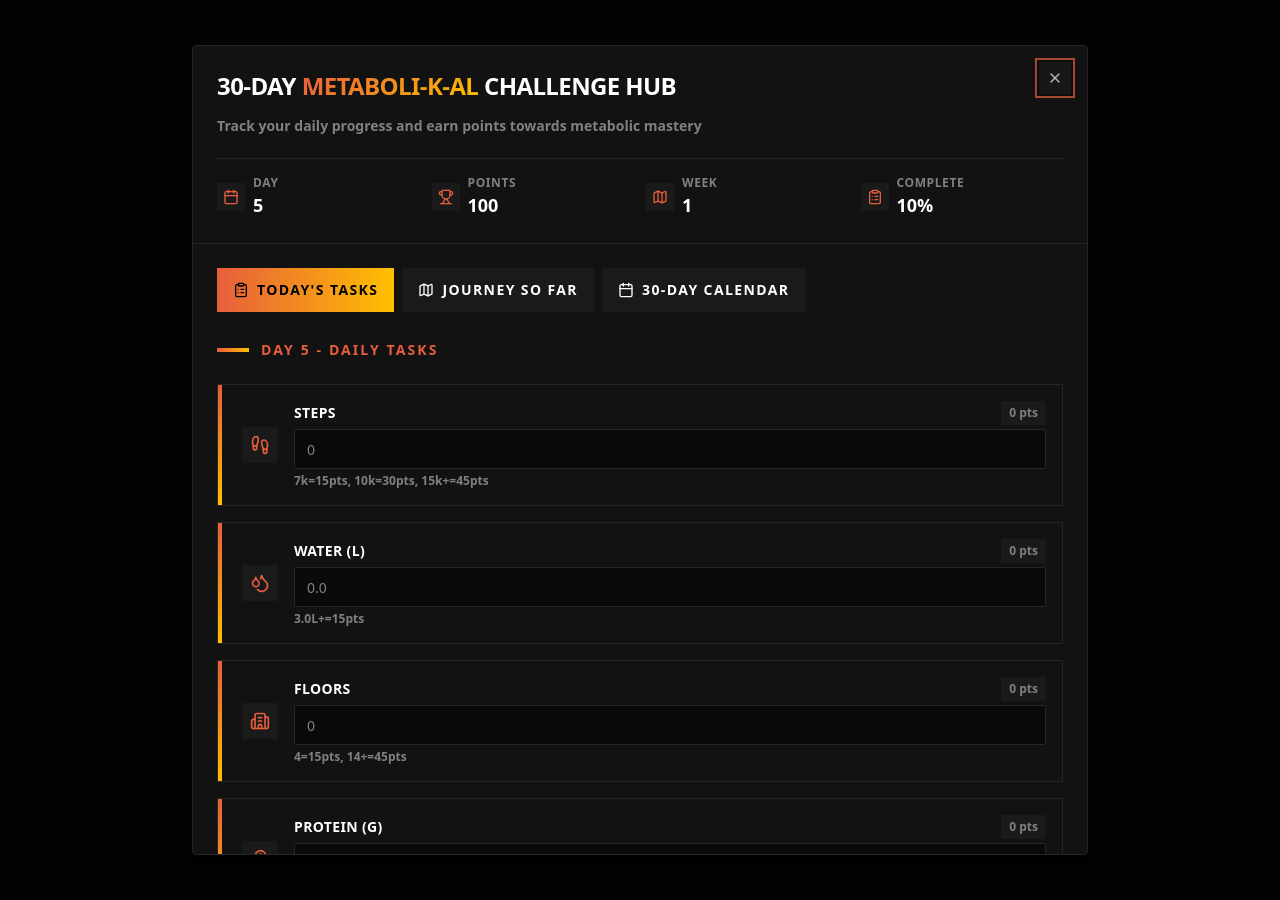
Test: ChallengeHubModal › editing day flow › clears editingDay when switching to a non-tasks tab
# First, enter editing mode via calendar
Click the button "30-Day Calendar": [704, 290] box [602, 268, 806, 312]
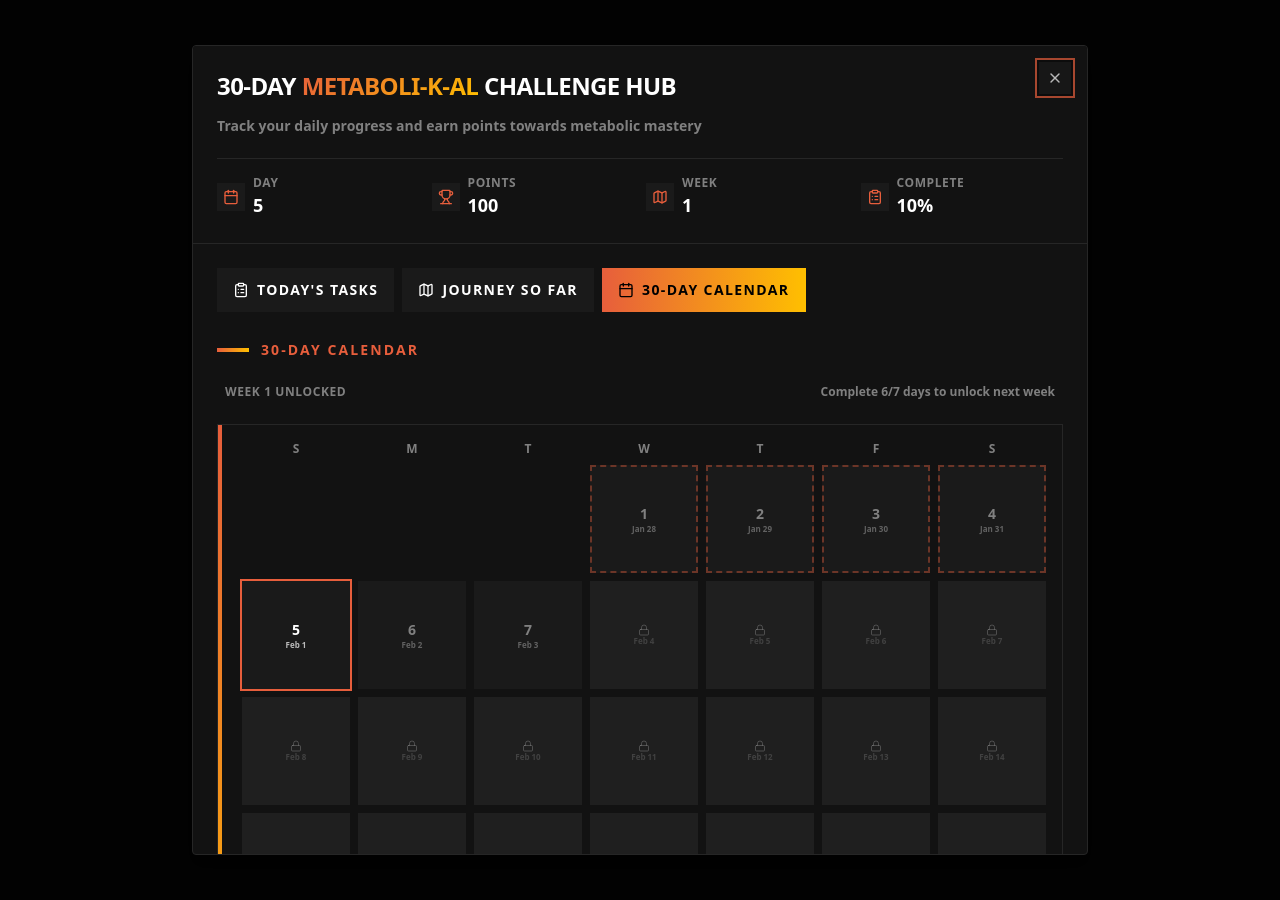
Click the button "2 Jan 29": [760, 519] box [706, 465, 814, 573]
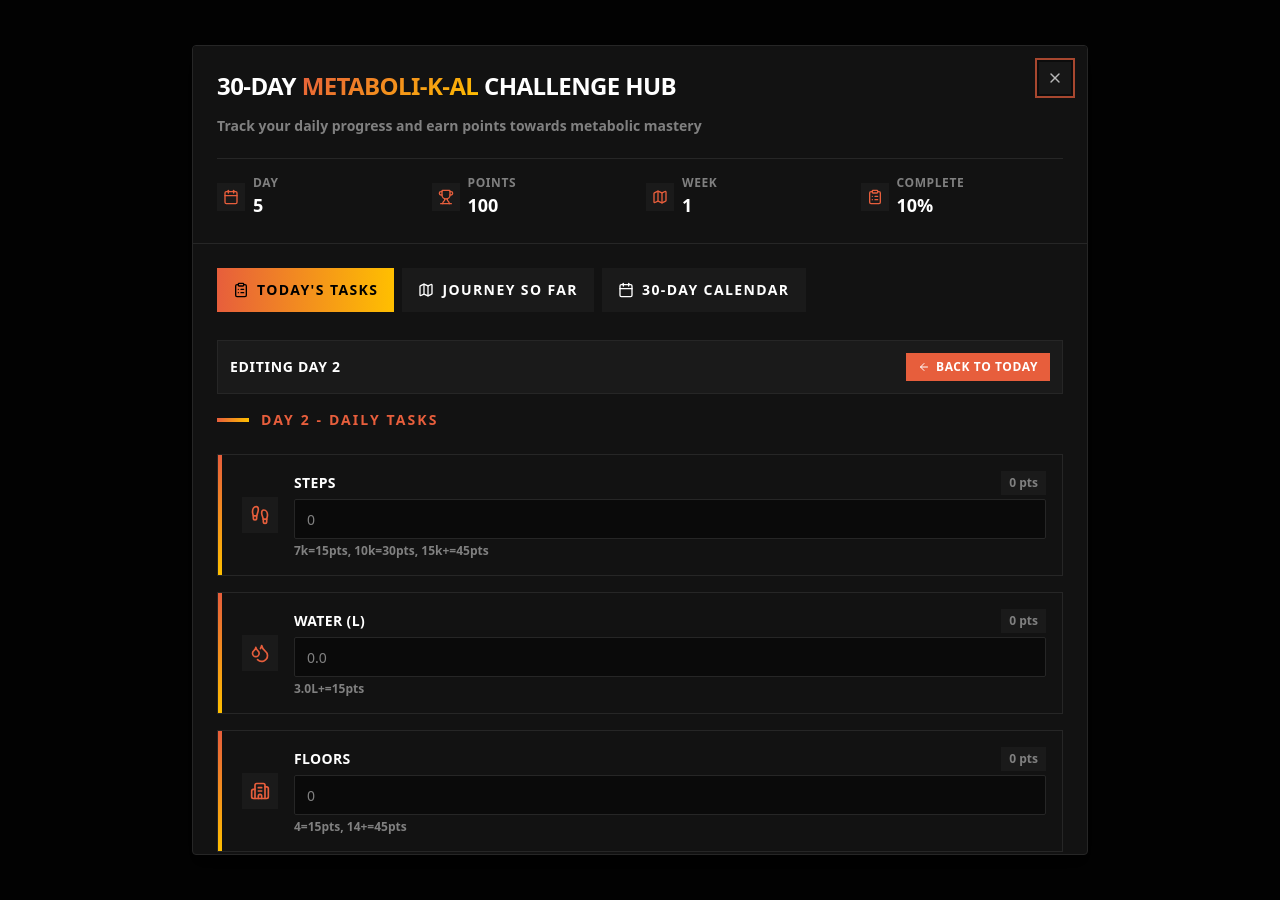
Check: the text "Editing Day 2" is shown, box [230, 357, 341, 377]
# Switch to Journey tab (non-tasks tab) - should clear editingDay
Click the button "Journey So Far": [498, 290] box [402, 268, 594, 312]
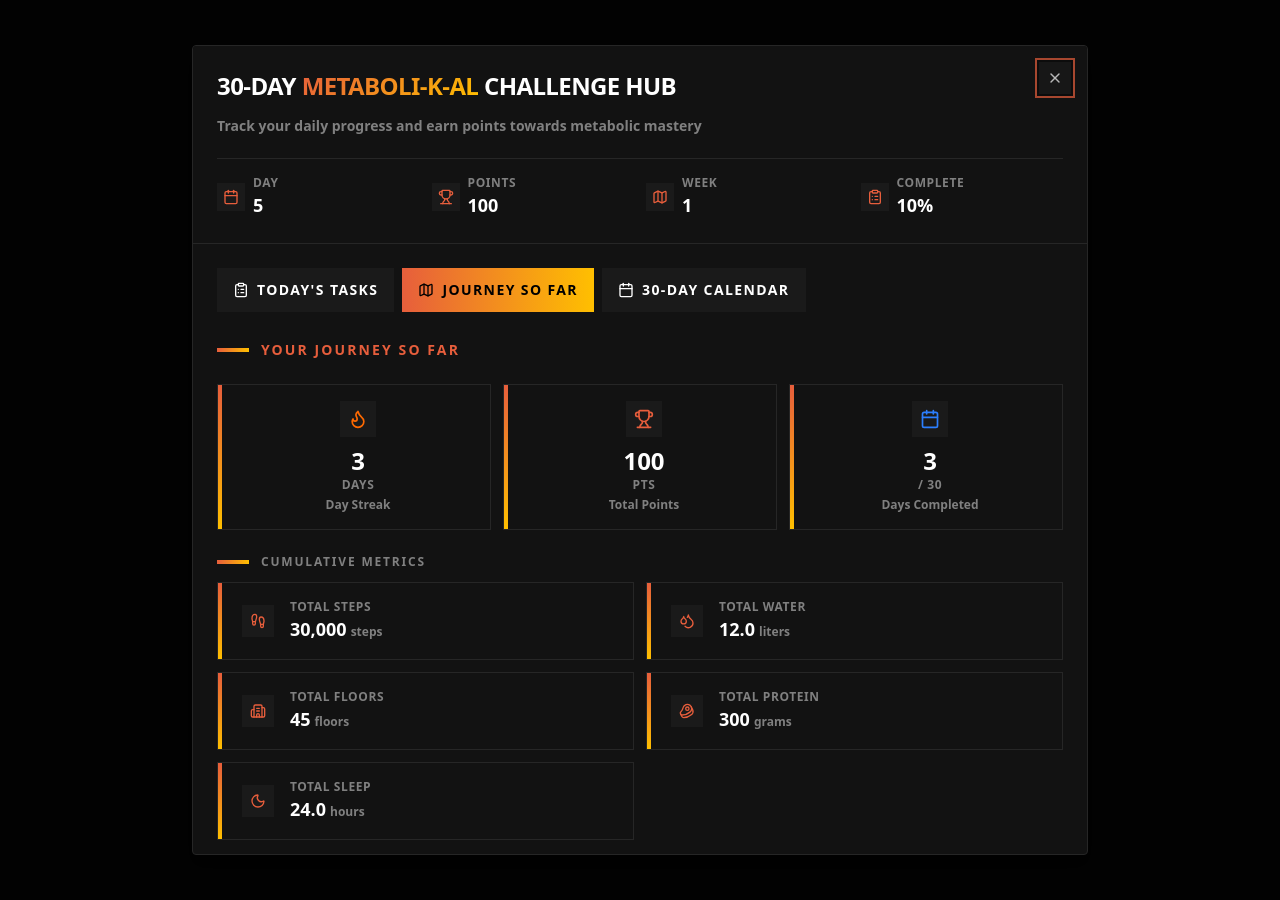
Check: the heading "Your Journey So Far" is shown, box [261, 340, 460, 360]
Check: the text "Editing Day" is gone
